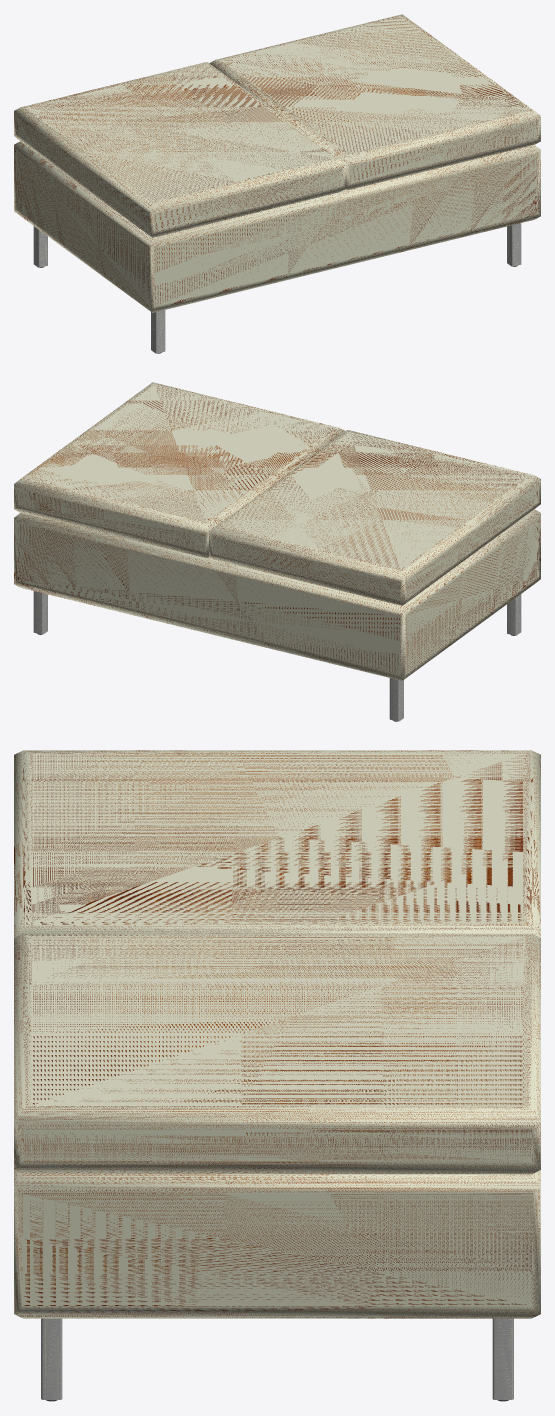
The picture shows the model from 3 angles, top to bottom: view 1: azimuth 30°, elevation 25°; view 2: azimuth 150°, elevation 25°; view 3: azimuth 270°, elevation 25°; orthographic projection. The views are drawn at different scales.
Visible parts, largest first — view 1: mesh9_mesh9-geometry, mesh8_mesh8-geometry, mesh4_mesh4-geometry; view 2: mesh9_mesh9-geometry, mesh4_mesh4-geometry, mesh8_mesh8-geometry; view 3: mesh9_mesh9-geometry, mesh4_mesh4-geometry, mesh8_mesh8-geometry.
Boxes of the visible parts, x1,y1,x2,y2 form: mesh9_mesh9-geometry: (14,14,540,312); mesh8_mesh8-geometry: (33,223,521,267); mesh4_mesh4-geometry: (151,310,165,353); mesh9_mesh9-geometry: (14,382,540,680); mesh4_mesh4-geometry: (33,591,521,635); mesh8_mesh8-geometry: (389,678,403,721); mesh9_mesh9-geometry: (14,750,540,1318); mesh4_mesh4-geometry: (492,1318,513,1399); mesh8_mesh8-geometry: (41,1318,62,1399).
Size of the model in its own units: 0.8119 by 0.3116 by 0.4936.
